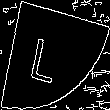L_N: (37, 26, 73, 84)
